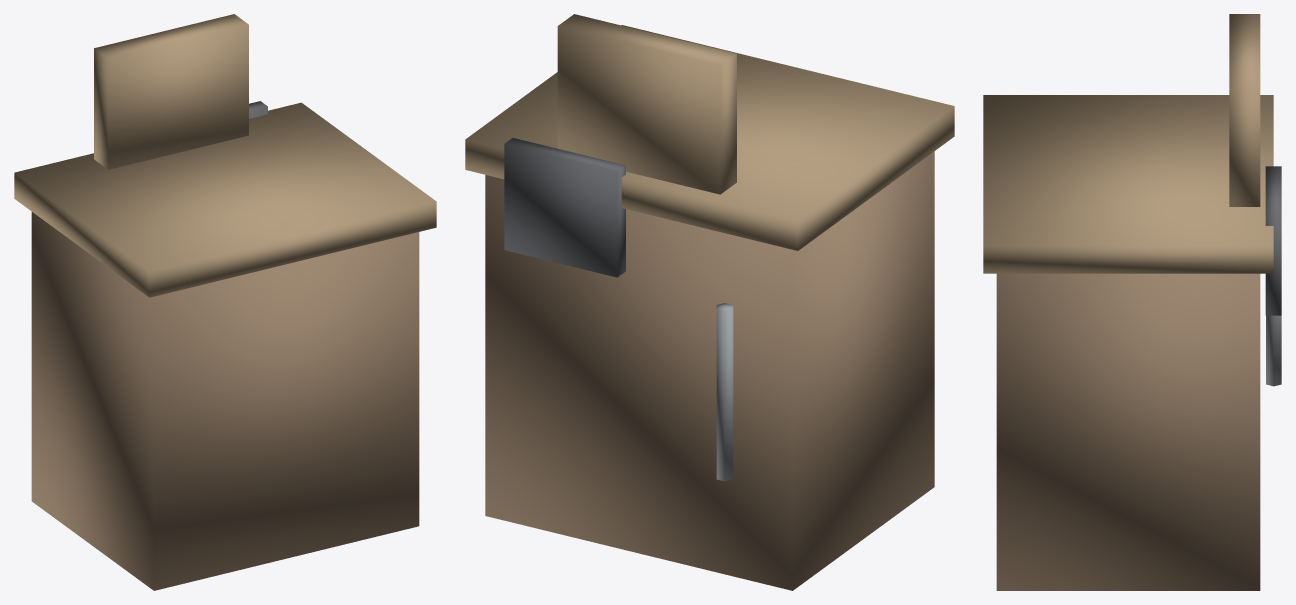
File: witness_stand__service.glb
3 renders of one model, left to right at view 1: azimuth 30°, elevation 25°; view 2: azimuth 150°, elevation 25°; view 3: azimuth 270°, elevation 25°, orthographic. The views are drawn at different scales.
Visible parts, largest first — view 1: world; view 2: world; view 3: world.
Part boxes in pixels (x1=…): world: x1=14, y1=14, x2=436, y2=590; world: x1=465, y1=14, x2=954, y2=590; world: x1=983, y1=14, x2=1281, y2=590.
Size of the model in its own units: 0.92 by 1.34 by 0.7706.
